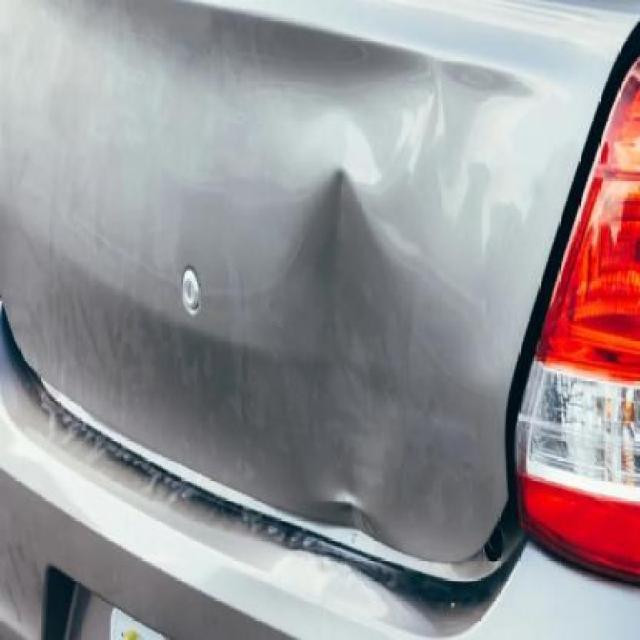minor: (274, 174, 391, 495)
